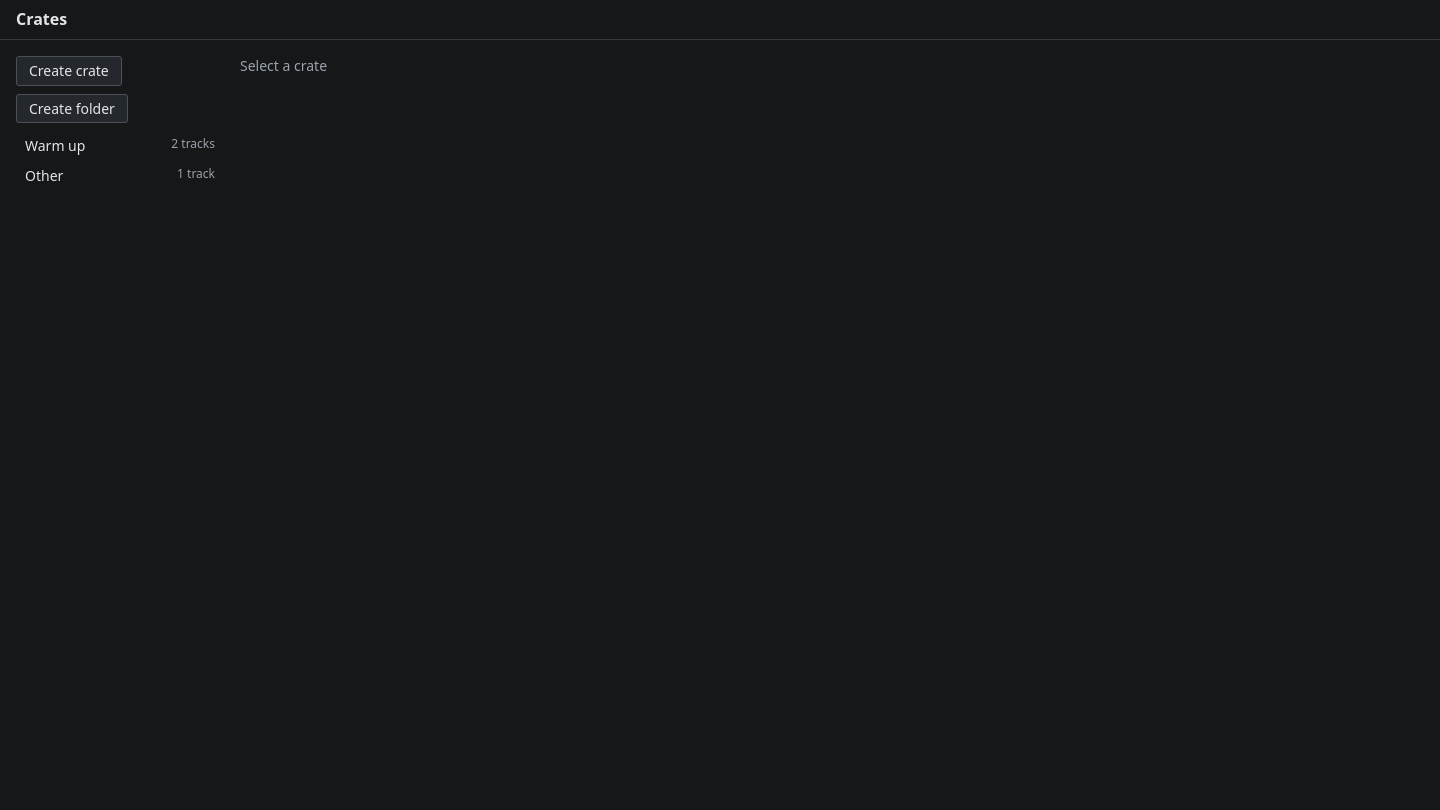
it: the Crates screen › shows the chosen crate's tracks in the Library list's columns, in the order the backend gave
The width and height of the screenshot is (1440, 810).
Click the button "Warm up 2 tracks" at (120, 146), box [16,131,224,161]
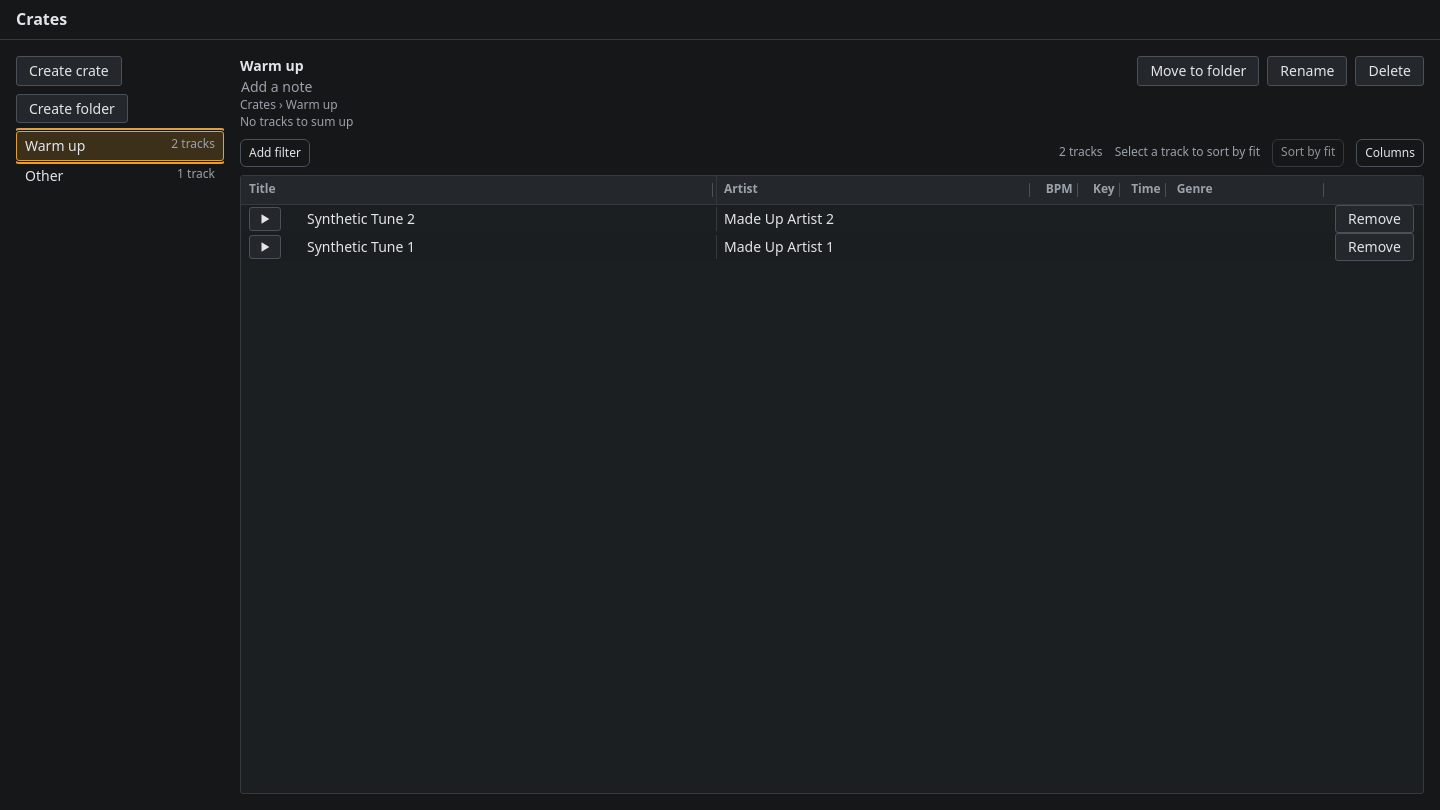
Check: the heading "Warm up" is shown, box [240,56,304,75]
Check: the row "Synthetic Tune 2 Made Up Artist 2 Remove" is shown, box [241,205,1423,233]
Check: the row "Synthetic Tune 1 Made Up Artist 1 Remove" is shown, box [241,233,1423,261]
